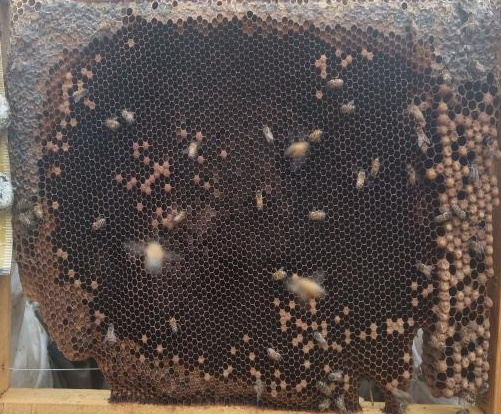cria: (421, 82, 501, 400), (113, 129, 241, 273), (272, 288, 433, 374), (47, 39, 130, 152)
